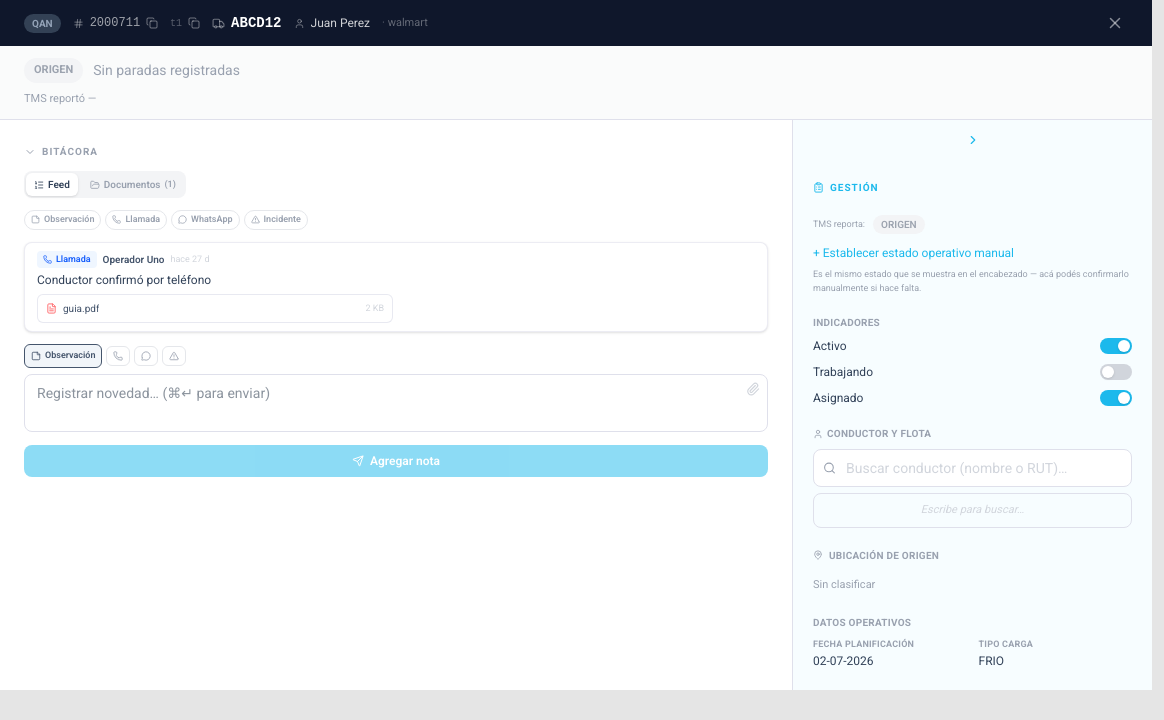
Test: TripDetailView — Bitácora (feed con historial) › renders attachments and lists them in the Documentos view
The image size is (1164, 720).
Expected: the text "guia.pdf" is shown, top-left (63, 301), bottom-right (99, 316)
Click the button "Documentos (1)" at x=133, y=184, box top-left (82, 173), bottom-right (184, 196)
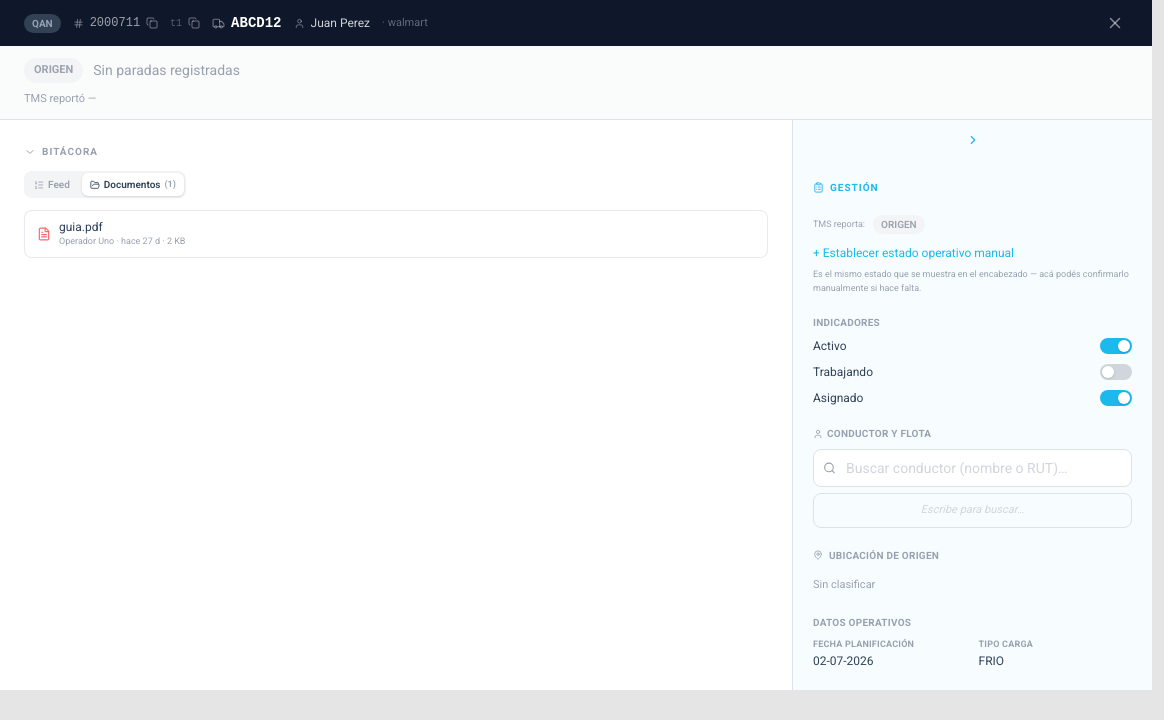
Expected: the text "guia.pdf" is shown, top-left (59, 220), bottom-right (103, 234)
Expected: the text "Operador Uno · hace 27 d · 2 KB" is shown, top-left (59, 235), bottom-right (185, 248)
